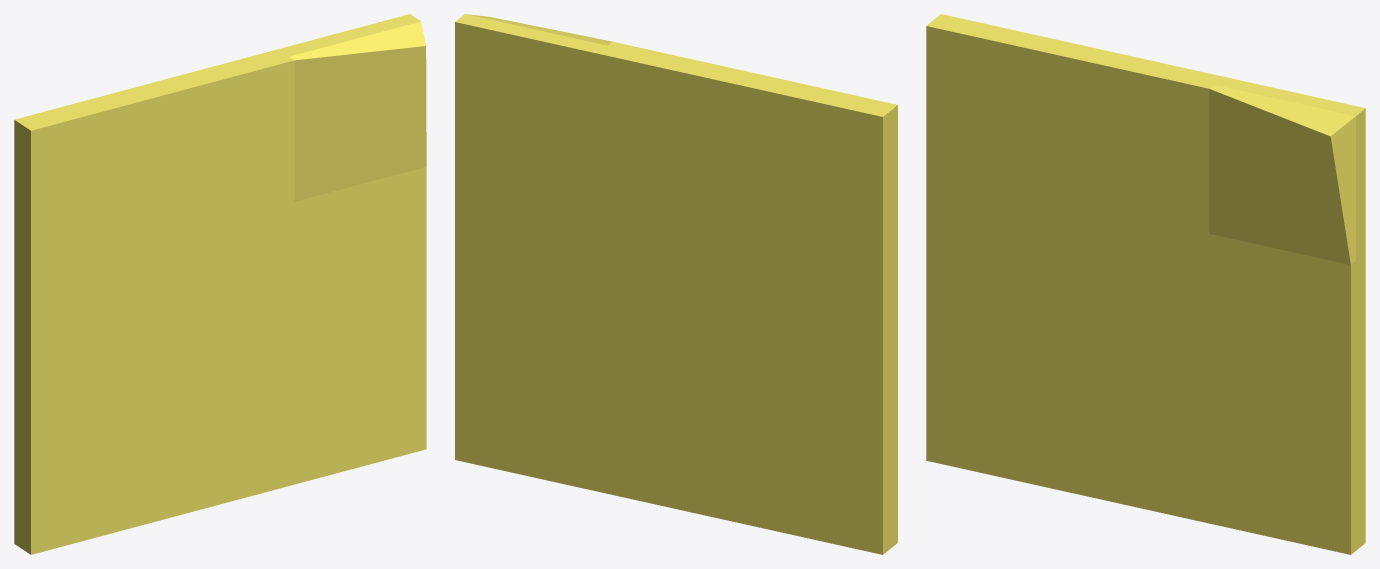
The model's file is message.fbx.
3 views of the same model, side by side, from view 1: azimuth 30°, elevation 25°; view 2: azimuth 150°, elevation 25°; view 3: azimuth 330°, elevation 25° (orthographic). The views are drawn at different scales.
Visible parts, largest first — view 1: StickyNoteStack_Small; view 2: StickyNoteStack_Small; view 3: StickyNoteStack_Small.
Boxes of the visible parts, x1,y1,x2,y2 form: StickyNoteStack_Small: (14, 14, 426, 554); StickyNoteStack_Small: (455, 14, 897, 554); StickyNoteStack_Small: (926, 14, 1365, 554).
Size of the model in its own units: 30.06 by 30 by 3.23.
